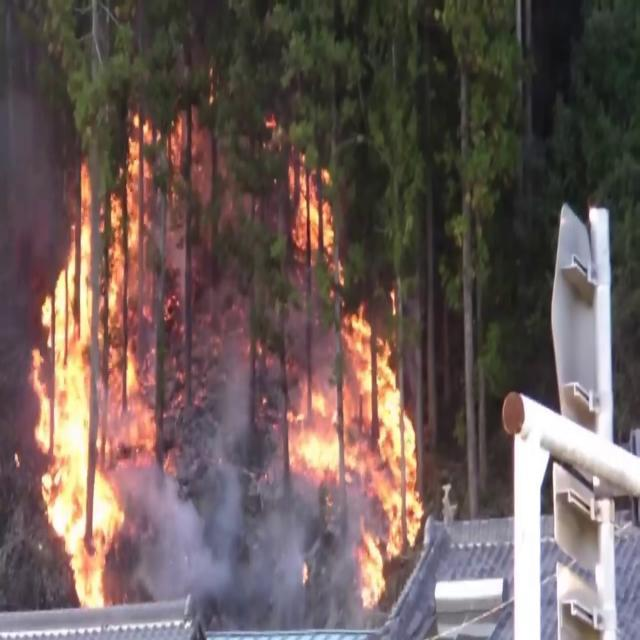Fire: (21, 128, 166, 608), (280, 166, 430, 600)
Smoke: (145, 326, 326, 612)
